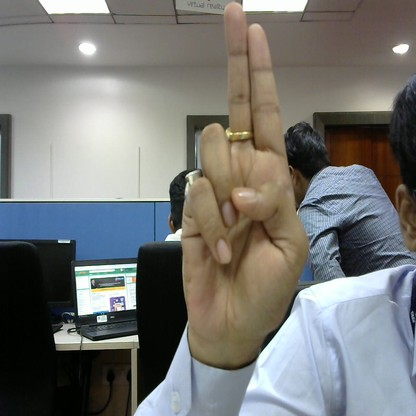u: (178, 2, 310, 347)
